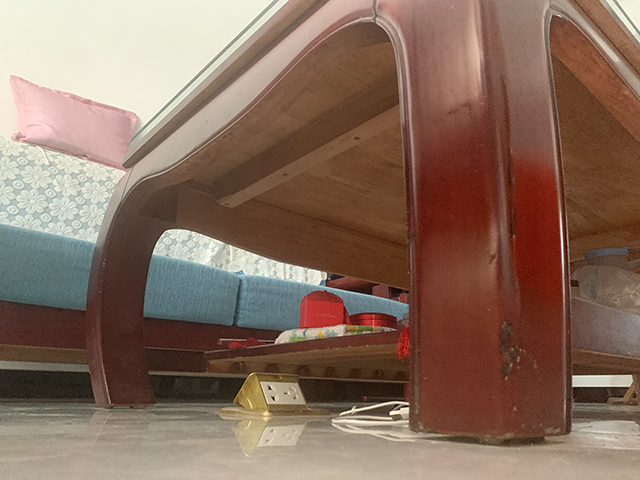sofa: (1, 74, 412, 401)
table: (83, 1, 640, 446)
wire: (330, 398, 411, 424)
